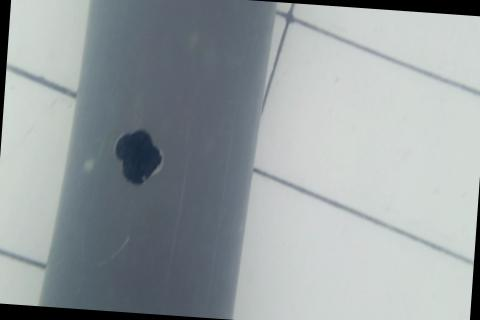kebocoran: (110, 123, 166, 190)
